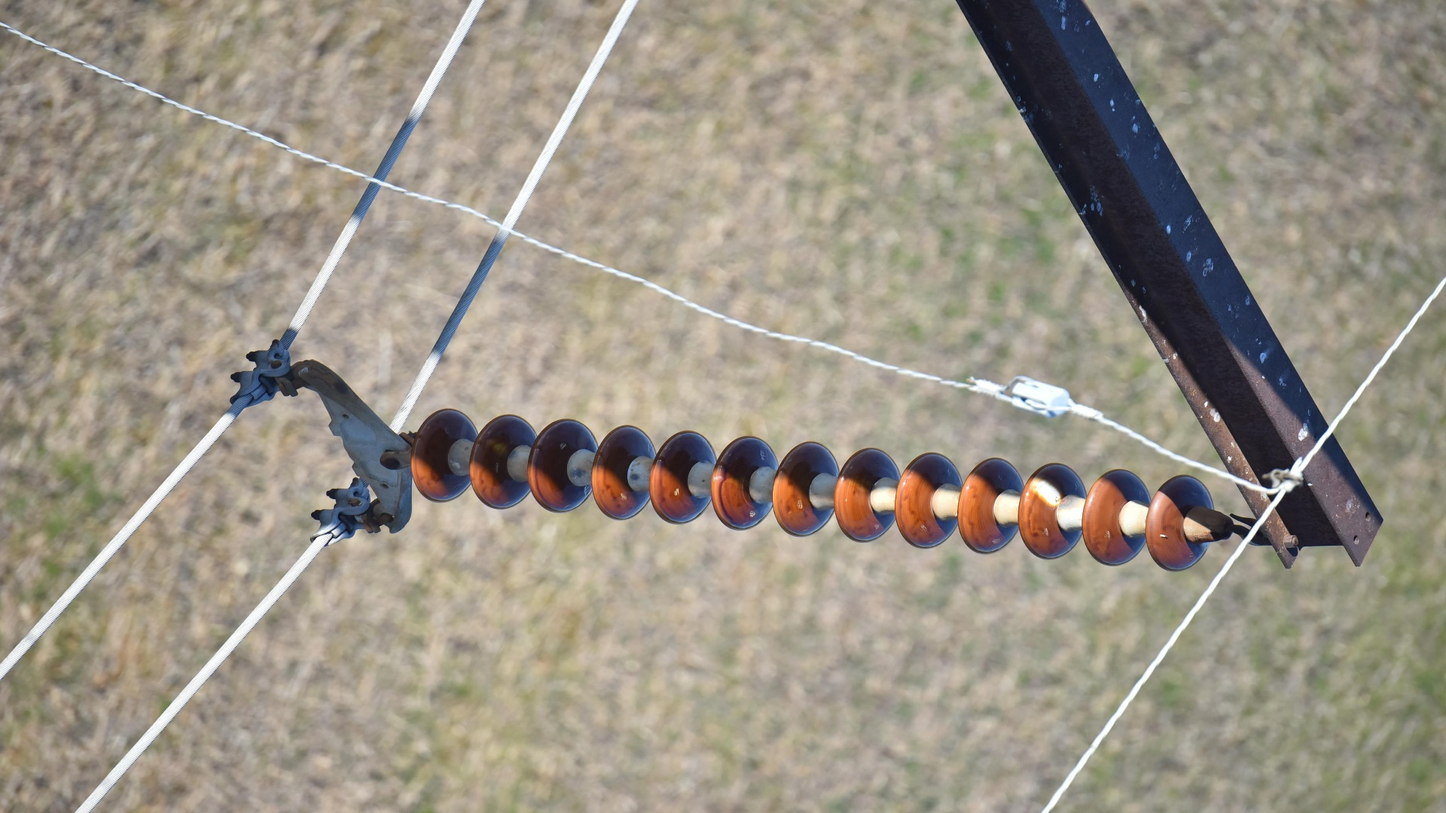insulator: (406, 403, 1219, 575)
